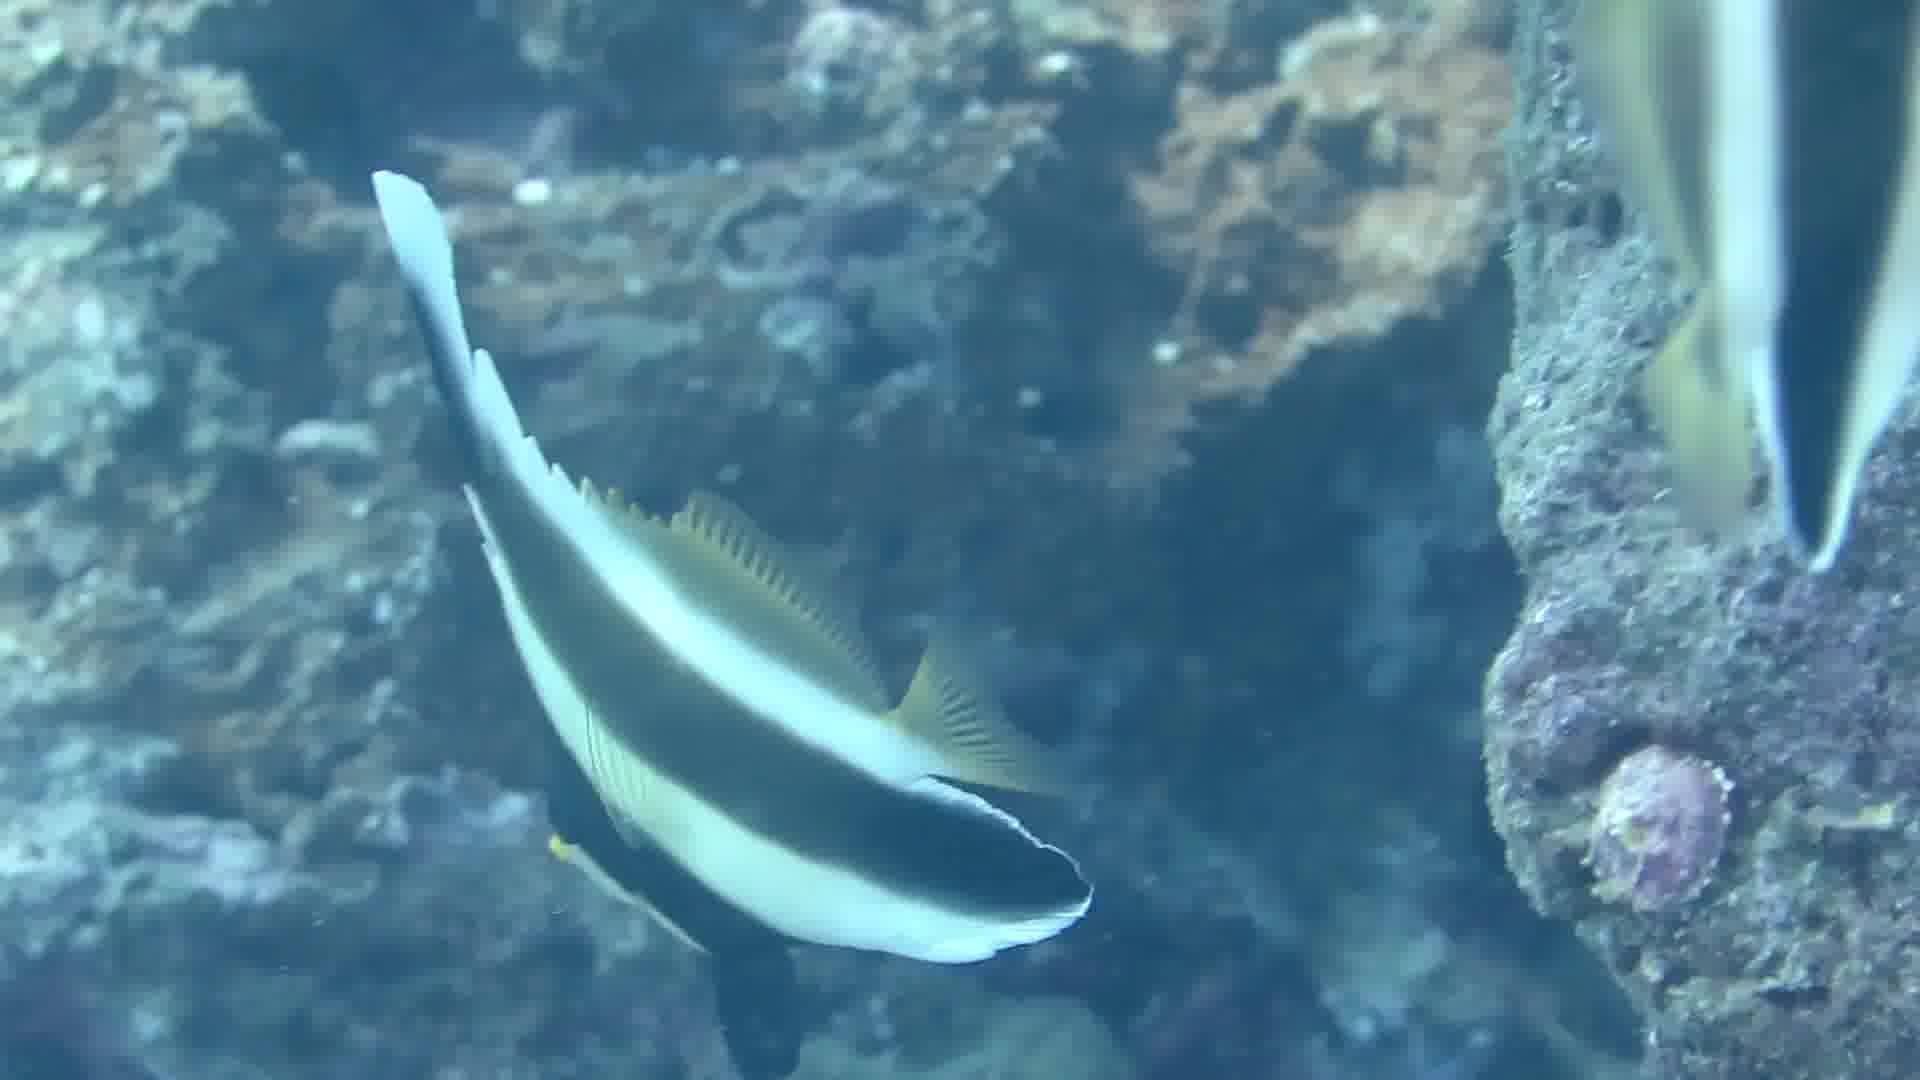Heniochus chrysostomus: (342, 132, 1095, 1000)
